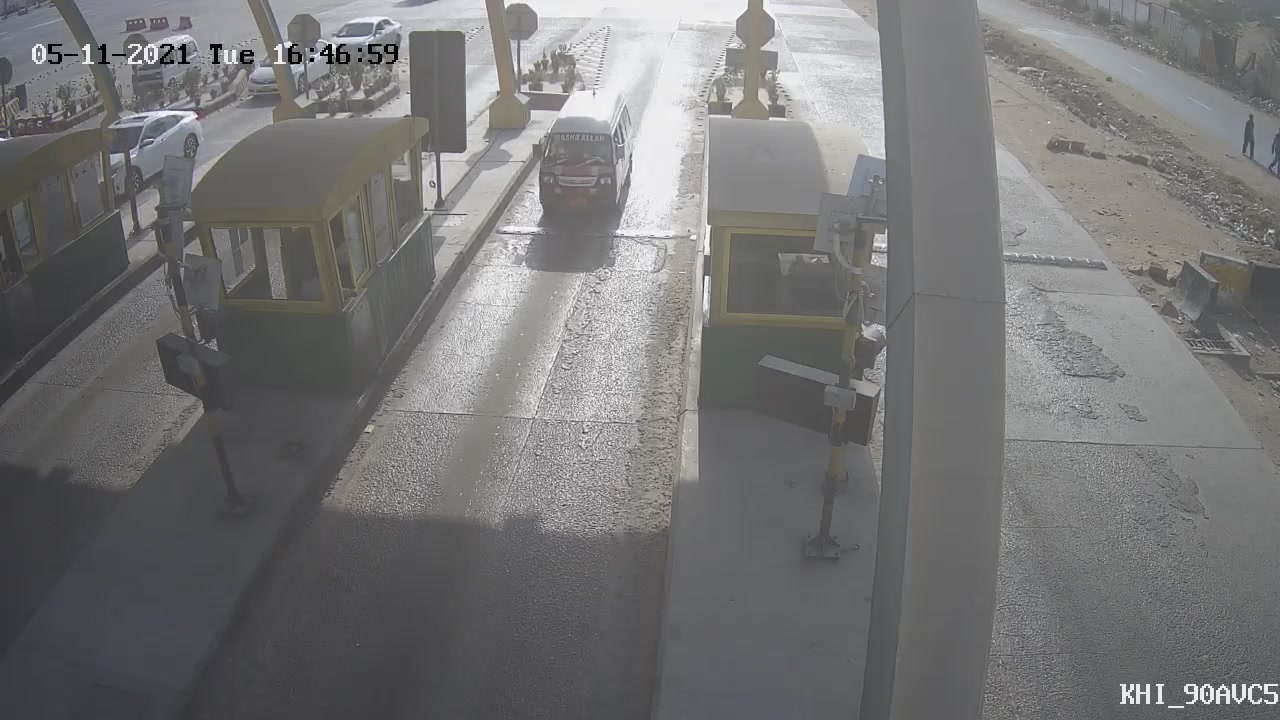F1: (521, 78, 650, 234)
